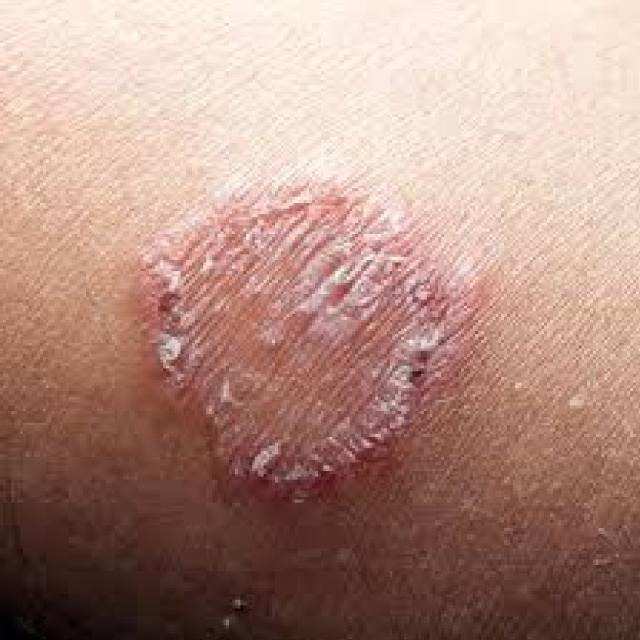Acne: (105, 128, 522, 533)
